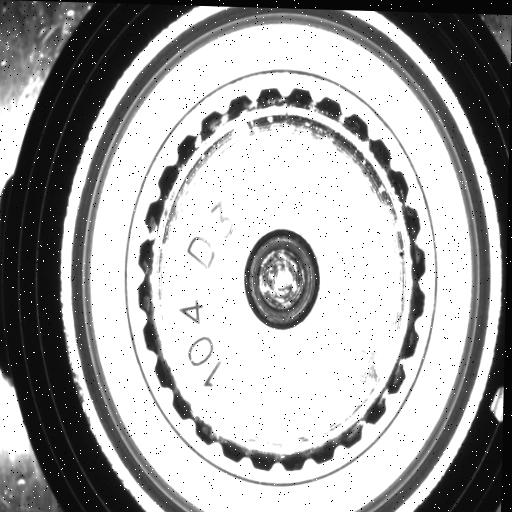gear: (135, 85, 430, 478)
